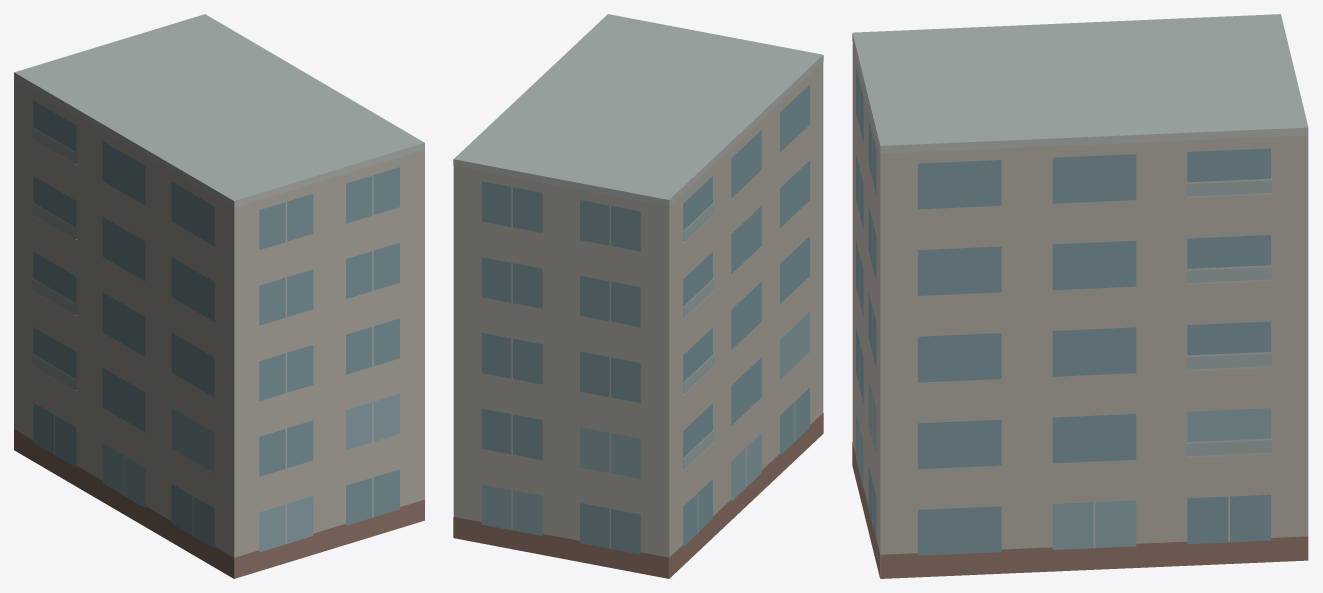
File: survey-upis-32886725.glb
The picture shows the model from 3 angles, left to right: view 1: azimuth 30°, elevation 25°; view 2: azimuth 150°, elevation 25°; view 3: azimuth 270°, elevation 25°; orthographic projection. The views are drawn at different scales.
Parts seen in each view (by area): view 1: survey-upis-32886725.tmp; view 2: survey-upis-32886725.tmp; view 3: survey-upis-32886725.tmp.
Part boxes in pixels (<box>): survey-upis-32886725.tmp: <box>14,14,424,578</box>; survey-upis-32886725.tmp: <box>453,14,823,578</box>; survey-upis-32886725.tmp: <box>852,14,1308,578</box>.
Bounding box in the file's own units: 9.03 × 13.8 × 13.18.
